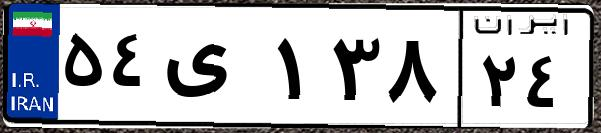1: (270, 28, 330, 110)
2: (475, 38, 525, 113)
3: (330, 28, 385, 110)
4: (525, 38, 570, 115), (110, 28, 158, 98)
5: (57, 26, 110, 100)
8: (385, 28, 445, 110)
ی: (158, 20, 270, 120)
